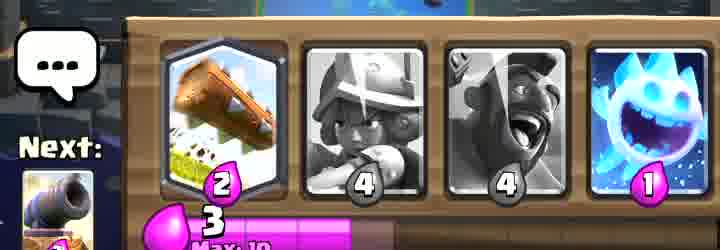cannon: (21, 171, 95, 250)
hog-rider: (443, 61, 537, 200)
ice-spirit: (595, 45, 711, 200)
log: (168, 43, 279, 183)
